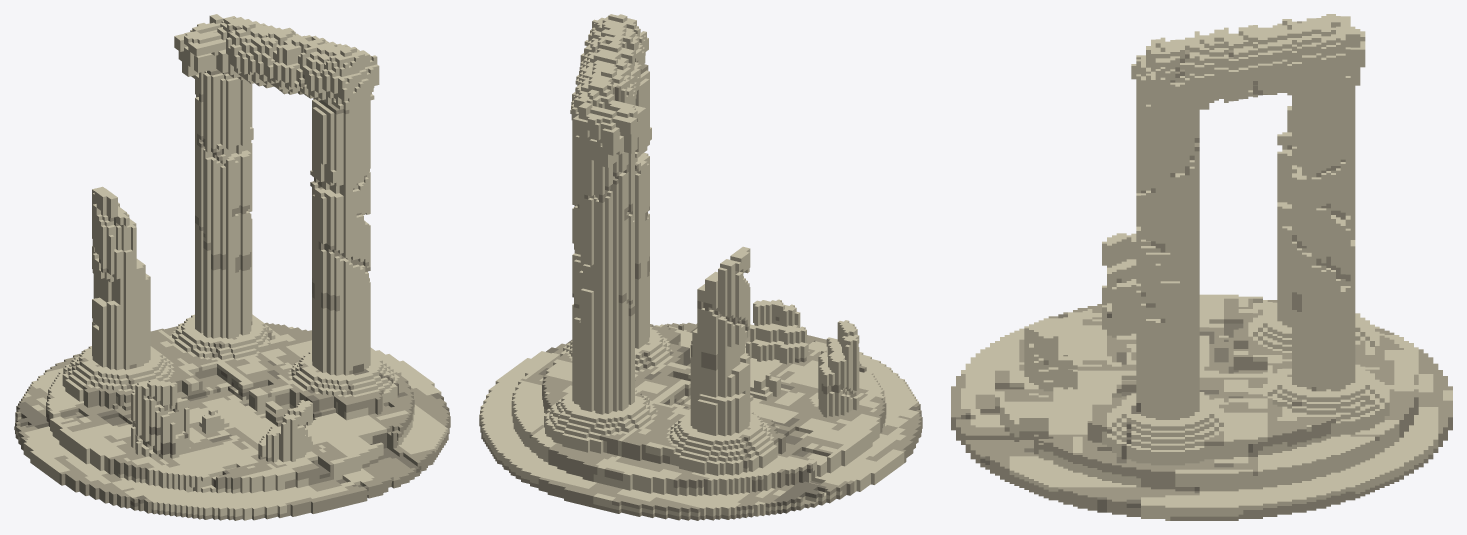
3 renders of one model, left to right at view 1: azimuth 30°, elevation 25°; view 2: azimuth 150°, elevation 25°; view 3: azimuth 270°, elevation 25°, orthographic. The views are drawn at different scales.
Visible parts, largest first — view 1: VOX; view 2: VOX; view 3: VOX.
Part boxes in pixels (x1,y1,x2,y2): VOX: (14,14,450,520); VOX: (479,14,922,520); VOX: (951,14,1452,520).
Bounding box in the file's own units: 0.103 × 0.097 × 0.103.
